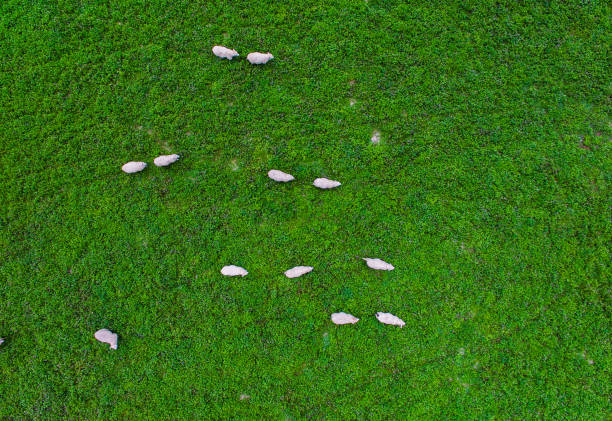sheep: (374, 308, 410, 334), (325, 308, 363, 328), (310, 175, 348, 194), (244, 47, 276, 69), (283, 264, 319, 280), (366, 253, 396, 272), (268, 169, 298, 186), (96, 329, 118, 352), (212, 44, 239, 62), (221, 263, 250, 279), (121, 161, 153, 174), (154, 151, 179, 167)
